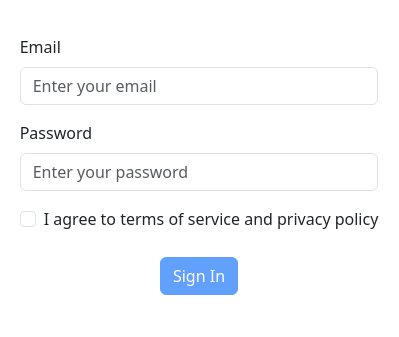
Test: Login testi › Yanlış email ve şifre girdiliğinde ekranda 2 tane hata mesajı var ve ekranda password hata mesajı görünüyor
In the field with test id "email-input": (200, 86) [20,67,379,105], type "umit@sahincom"
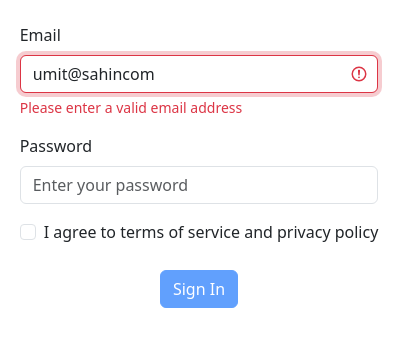
In the password field with test id "password-input": (200, 185) [20,166,379,204], type "232"
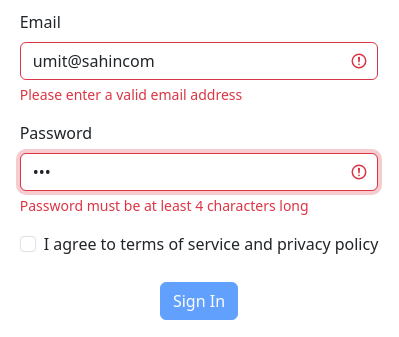
Now the text "Password must be at least 4 characters long" is shown, box [20,196,309,215]
